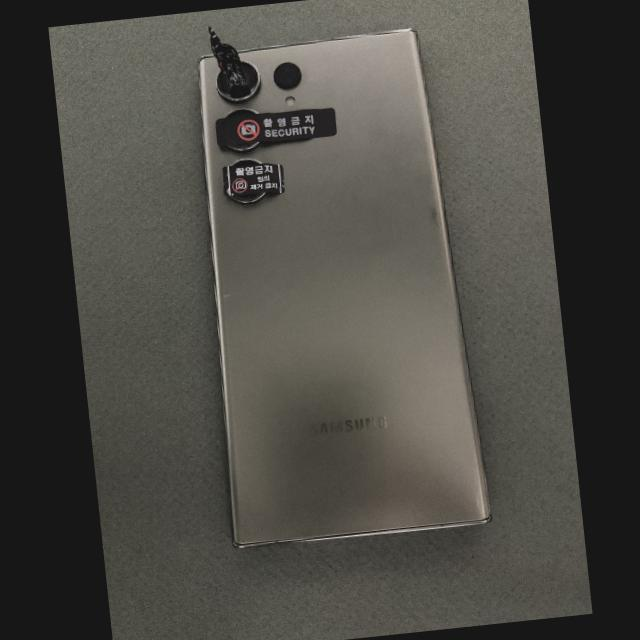lens: (216, 60, 260, 103), (274, 63, 302, 88), (225, 109, 257, 118), (232, 194, 265, 202)
phone: (197, 27, 492, 549)
sticker: (215, 107, 338, 149), (208, 25, 251, 95), (222, 163, 285, 196)
